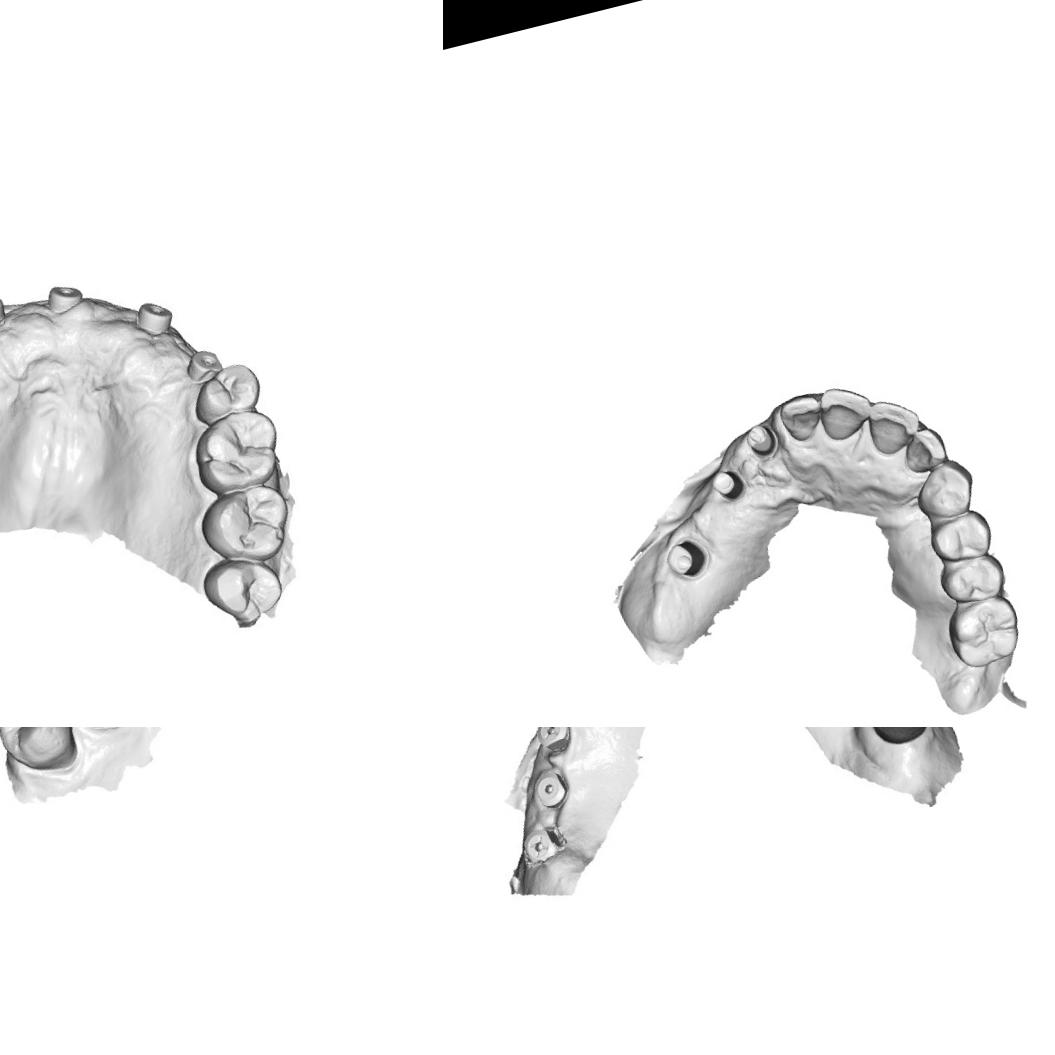abutment: (661, 534, 710, 582), (706, 463, 748, 506), (740, 419, 778, 460)
canine: (907, 454, 981, 526)
implant: (124, 291, 180, 342), (38, 272, 90, 319), (179, 340, 228, 386), (528, 766, 572, 811), (0, 285, 10, 330)
implant_plus: (517, 821, 564, 868), (528, 727, 576, 754)
incisor: (812, 378, 879, 445), (861, 391, 926, 459), (774, 389, 828, 446), (896, 421, 950, 477)
molar: (184, 399, 294, 502), (190, 476, 302, 574), (193, 546, 290, 637), (940, 591, 1028, 673), (0, 727, 83, 782), (853, 727, 958, 750)
premolar: (182, 356, 266, 429), (934, 549, 1012, 610), (924, 506, 996, 568)
